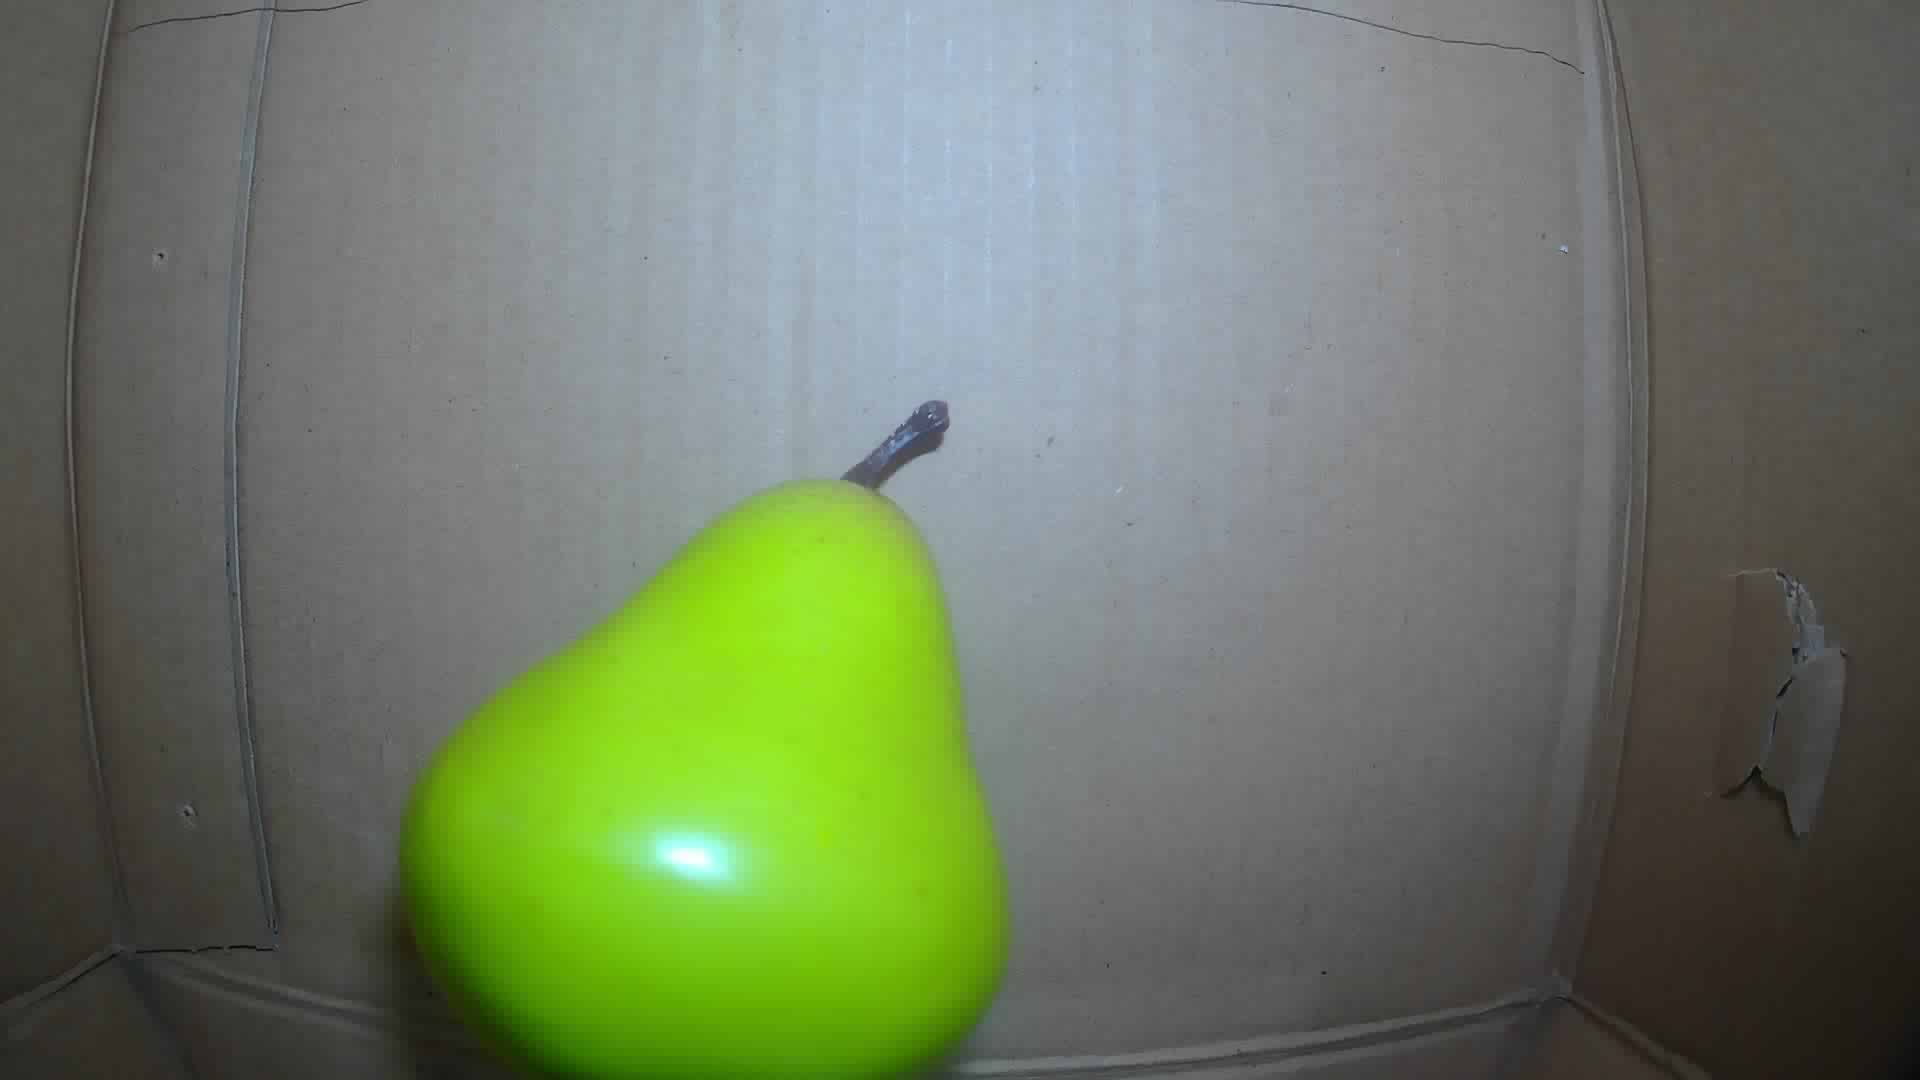pear: (398, 398, 1009, 1080)
